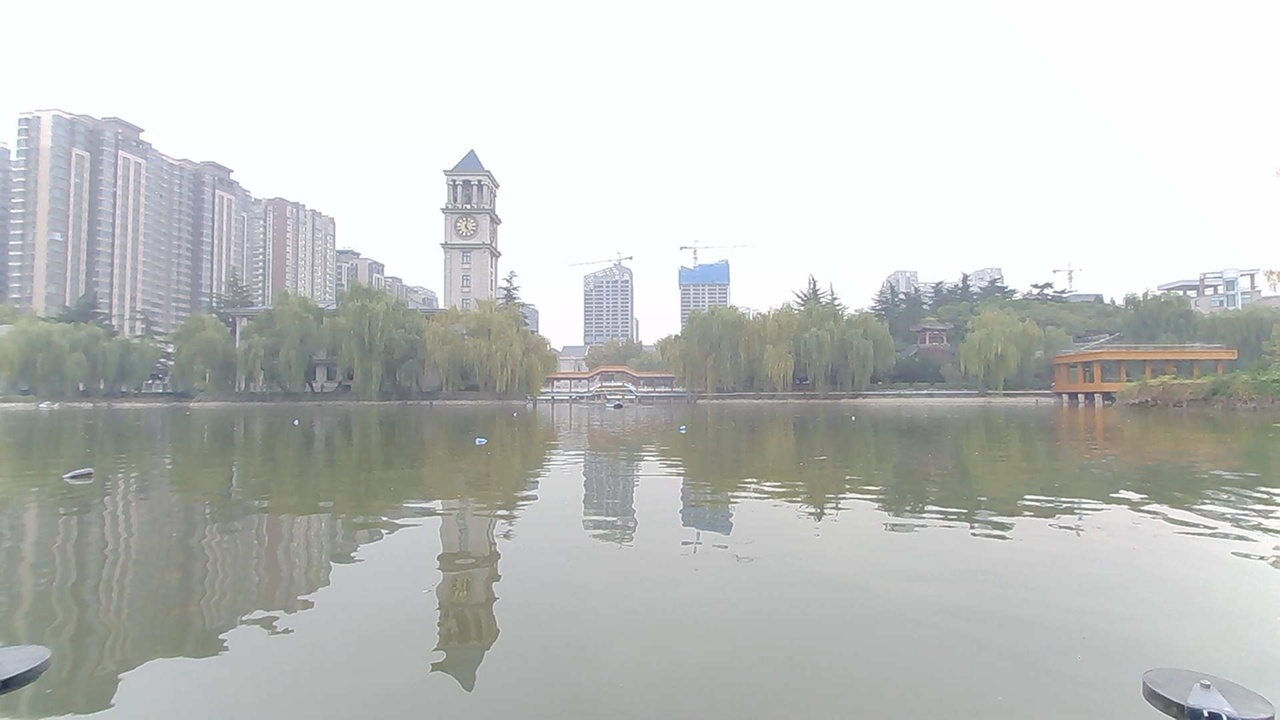bottle: (55, 458, 128, 491), (676, 408, 710, 435), (279, 406, 317, 430), (828, 403, 858, 429), (463, 435, 500, 456), (509, 406, 538, 428)
